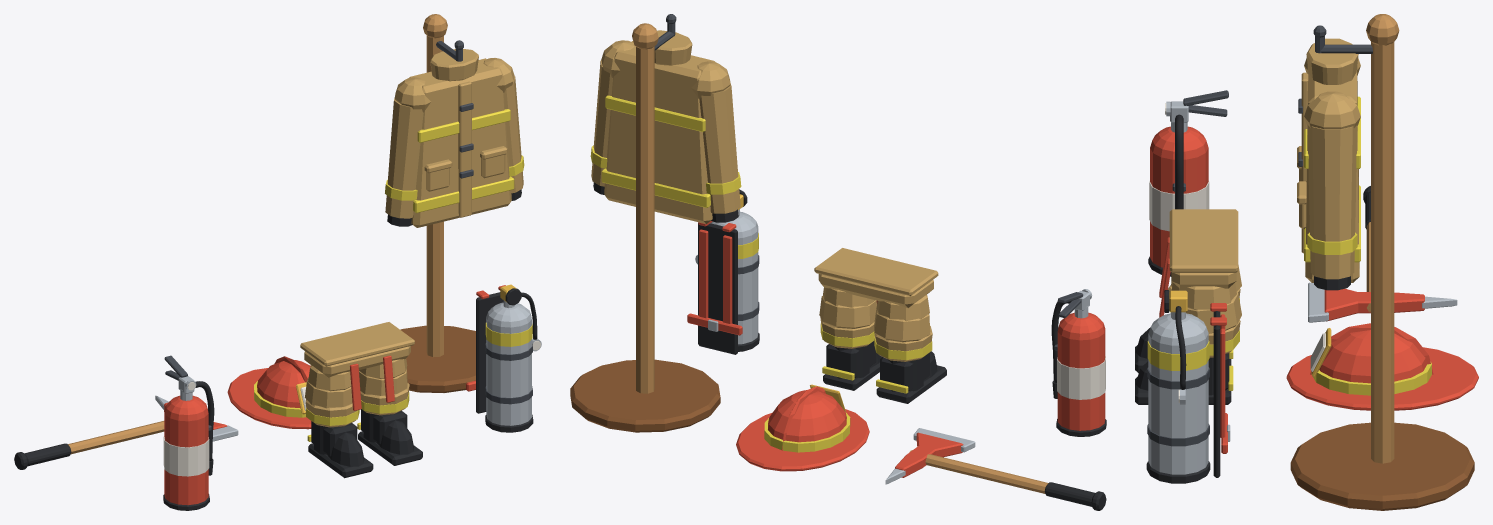
File: firefighter-gear-set.glb
3 views of the same model, side by side, from view 1: azimuth 30°, elevation 25°; view 2: azimuth 150°, elevation 25°; view 3: azimuth 270°, elevation 25° (orthographic). The views are drawn at different scales.
Parts seen in each view (by area): view 1: Jacket, Turnout_Boots, Air_Tank, Turnout_Jacket, Fire_Extinguisher, Fire_Helmet, Fire_Axe; view 2: Jacket, Turnout_Jacket, Turnout_Boots, Air_Tank, Fire_Helmet, Fire_Extinguisher, Fire_Axe; view 3: Turnout_Jacket, Jacket, Air_Tank, Fire_Helmet, Turnout_Boots, Fire_Extinguisher, Fire_Axe, Lever.
Part boxes in pixels (box(x1,y1,x2,y2)): Jacket: box(385, 49, 524, 227); Turnout_Boots: box(300, 322, 422, 478); Air_Tank: box(466, 284, 541, 432); Turnout_Jacket: box(400, 14, 475, 392); Fire_Extinguisher: box(163, 370, 214, 510); Fire_Helmet: box(227, 356, 311, 429); Fire_Axe: box(14, 395, 238, 469); Jacket: box(590, 30, 741, 223); Turnout_Jacket: box(570, 14, 720, 432); Turnout_Boots: box(814, 248, 946, 403); Air_Tank: box(687, 194, 759, 354); Fire_Helmet: box(736, 384, 869, 471); Fire_Extinguisher: box(1051, 289, 1106, 436); Fire_Axe: box(885, 428, 1106, 510); Turnout_Jacket: box(1290, 14, 1474, 510); Jacket: box(1297, 38, 1360, 290); Air_Tank: box(1146, 290, 1230, 483); Fire_Helmet: box(1286, 323, 1478, 410); Turnout_Boots: box(1135, 209, 1241, 404); Fire_Extinguisher: box(1148, 101, 1227, 276); Fire_Axe: box(1308, 186, 1457, 322); Lever: box(1183, 90, 1228, 105).
Size of the model in its own units: 8.82 by 6.05 by 4.11.
